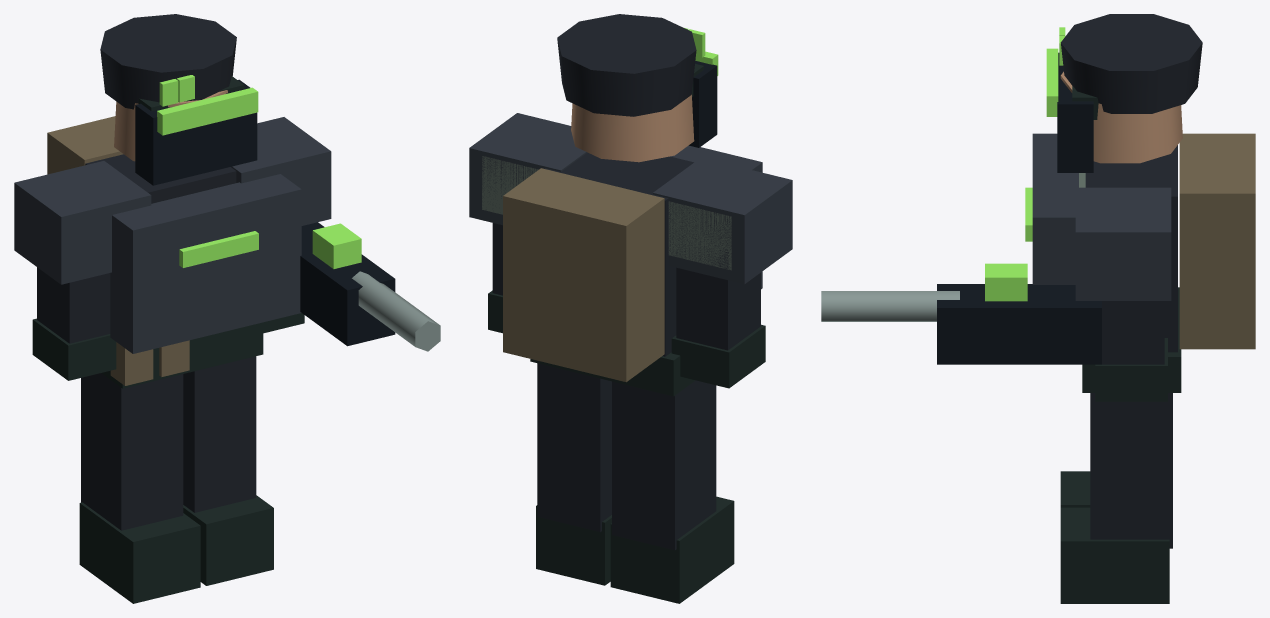
File: sentinel_l02.glb
3 renders of one model, left to right at view 1: azimuth 30°, elevation 25°; view 2: azimuth 150°, elevation 25°; view 3: azimuth 270°, elevation 25°, orthographic. The views are drawn at different scales.
Parts seen in each view (by area): view 1: tactical_chest_plate, trouser (×2), broad_shoulder_guard (×2), boot (×2), helmet, full_face_mask, heavy_carbine, sleeve, glove, heavy_barrel, belt, field_pack (+7 smaller); view 2: field_pack, trouser (×2), broad_shoulder_guard (×2), helmet, boot (×2), sleeve (×2), face, shoulder_plate (×2), body, glove (×2), belt, full_face_mask (+1 smaller); view 3: field_pack, heavy_carbine, helmet, trouser, broad_shoulder_guard, boot (×2), tactical_chest_plate, face, sleeve, body, heavy_barrel, full_face_mask (+4 smaller).
Boxes of the visible parts, x1,y1,x2,y2 form: tactical_chest_plate: (110,174,301,353); trouser (×2): (81,356,256,530); broad_shoulder_guard (×2): (14,117,331,284); boot (×2): (79,495,273,603); helmet: (100,14,236,109); full_face_mask: (135,79,257,185); heavy_carbine: (300,222,395,346); sleeve: (37,267,110,343); glove: (32,318,116,380); heavy_barrel: (352,271,440,351); belt: (101,322,263,388); field_pack: (47,116,123,174); field_pack: (503,168,664,382); trouser (×2): (537,363,716,550); broad_shoulder_guard (×2): (469,113,792,284); helmet: (557,14,696,116); boot (×2): (536,496,734,603); sleeve (×2): (492,223,760,350); face: (571,94,694,162); shoulder_plate (×2): (482,156,731,270); body: (544,152,693,356); glove (×2): (488,290,765,388); belt: (530,352,695,396); full_face_mask: (689,61,717,147); field_pack: (1179,133,1255,349); heavy_carbine: (937,284,1101,364); helmet: (1060,14,1202,113); trouser: (1090,393,1172,548); broad_shoulder_guard: (1075,187,1171,300); boot (×2): (1060,471,1169,603); tactical_chest_plate: (1032,133,1078,284); face: (1060,71,1182,163); sleeve: (1102,301,1164,364); body: (1085,145,1177,352); heavy_barrel: (821,291,959,321); full_face_mask: (1057,52,1093,172).
Bounding box in the file's own units: 0.96 × 1.76 × 1.31.
